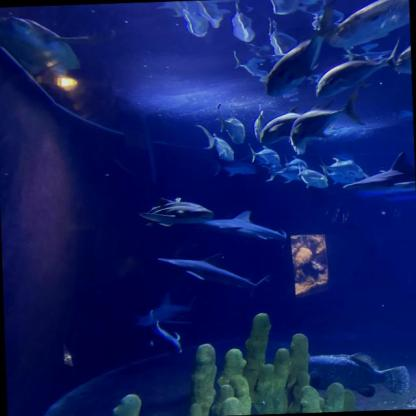fish: (263, 0, 342, 98), (314, 36, 400, 98), (306, 350, 410, 399), (289, 86, 367, 146), (325, 0, 410, 49), (258, 105, 340, 146), (196, 123, 235, 162), (216, 103, 246, 145), (148, 319, 182, 356), (318, 154, 364, 180), (210, 156, 256, 177), (262, 162, 304, 184), (298, 161, 328, 189), (318, 163, 356, 185), (248, 142, 280, 164), (394, 34, 411, 75), (283, 154, 308, 170)
shark: (150, 251, 271, 301), (341, 151, 416, 205), (204, 207, 288, 249), (139, 195, 215, 227), (135, 290, 194, 328)
